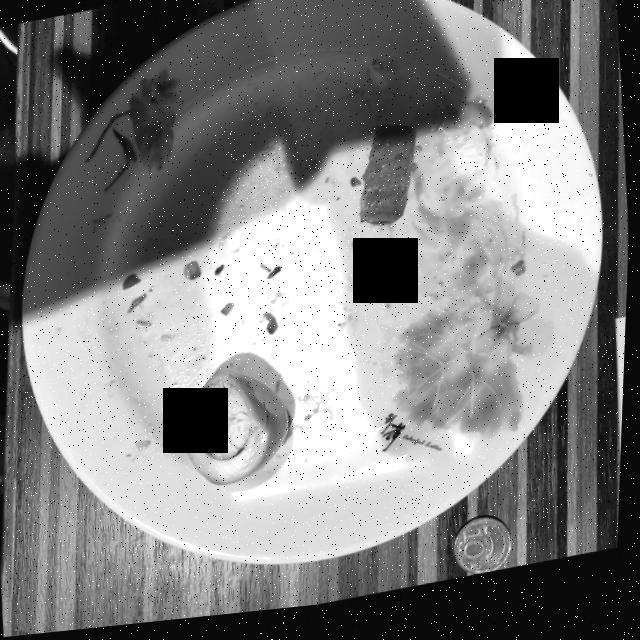coin: (458, 526, 516, 585)
creamy tofu: (362, 133, 417, 231)
soy egg: (190, 377, 293, 490)
